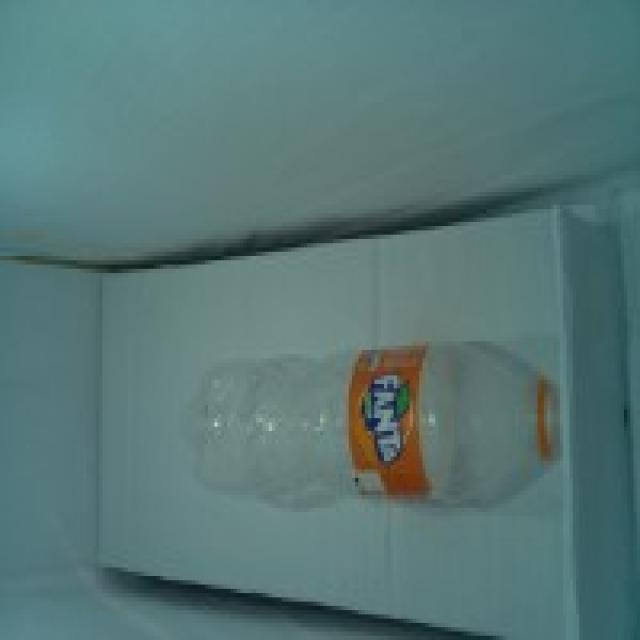Anorganik: (189, 350, 566, 499)
